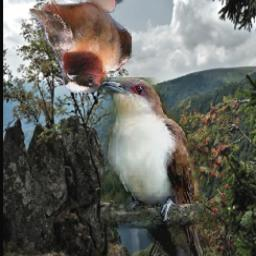Cuckoo: (101, 77, 205, 256)
Swallow: (29, 0, 132, 94)
